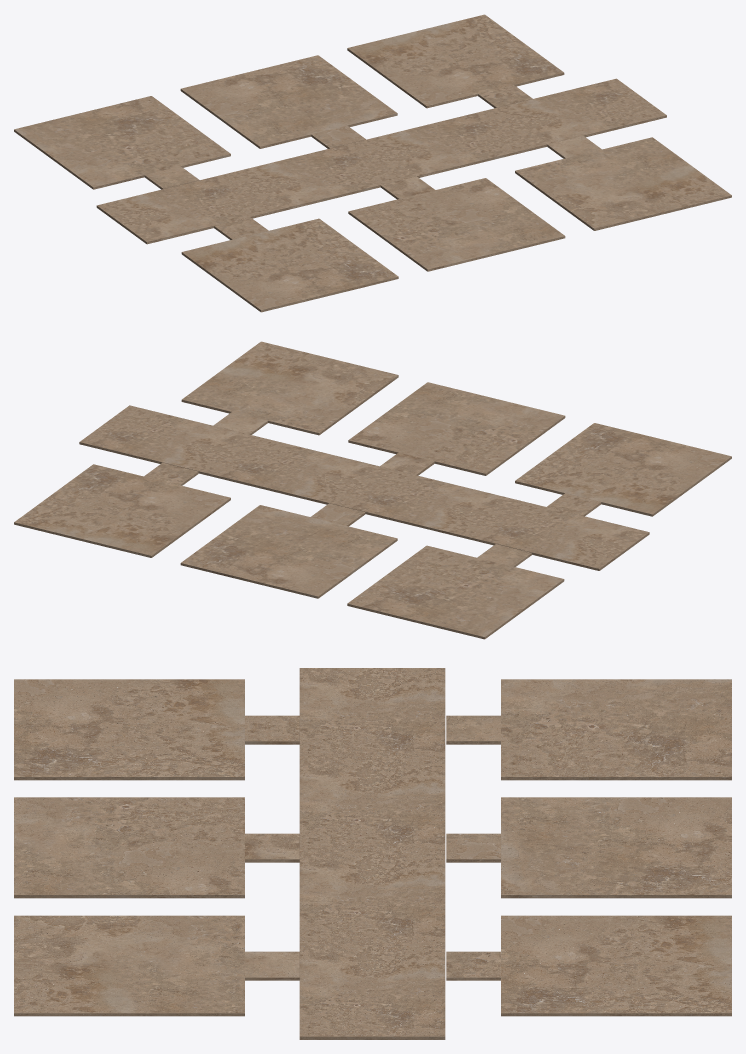
The model's file is Jalan.fbx.
3 renders of one model, top to bottom at view 1: azimuth 30°, elevation 25°; view 2: azimuth 150°, elevation 25°; view 3: azimuth 270°, elevation 25°, orthographic. The views are drawn at different scales.
Visible parts, largest first — view 1: Jalan tengah_Baked; view 2: Jalan tengah_Baked; view 3: Jalan tengah_Baked.
Boxes of the visible parts, x1=… form: Jalan tengah_Baked: x1=14, y1=14, x2=731, y2=312; Jalan tengah_Baked: x1=14, y1=341, x2=731, y2=639; Jalan tengah_Baked: x1=14, y1=668, x2=731, y2=1039.
Bounding box in the file's own units: 7178 × 29.63 × 5908.
1 material, 1 textured.
